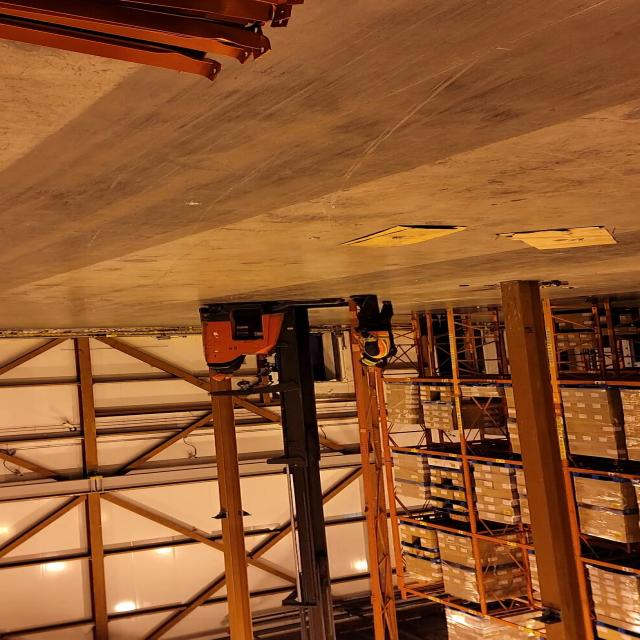forklift: (194, 296, 355, 467)
human: (341, 292, 388, 366), (362, 298, 401, 372), (198, 352, 246, 384)
objectofinterest: (350, 299, 412, 640), (489, 224, 624, 253), (329, 224, 474, 250)
